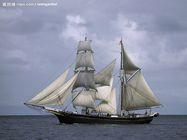fanchuan: (18, 30, 164, 127)
